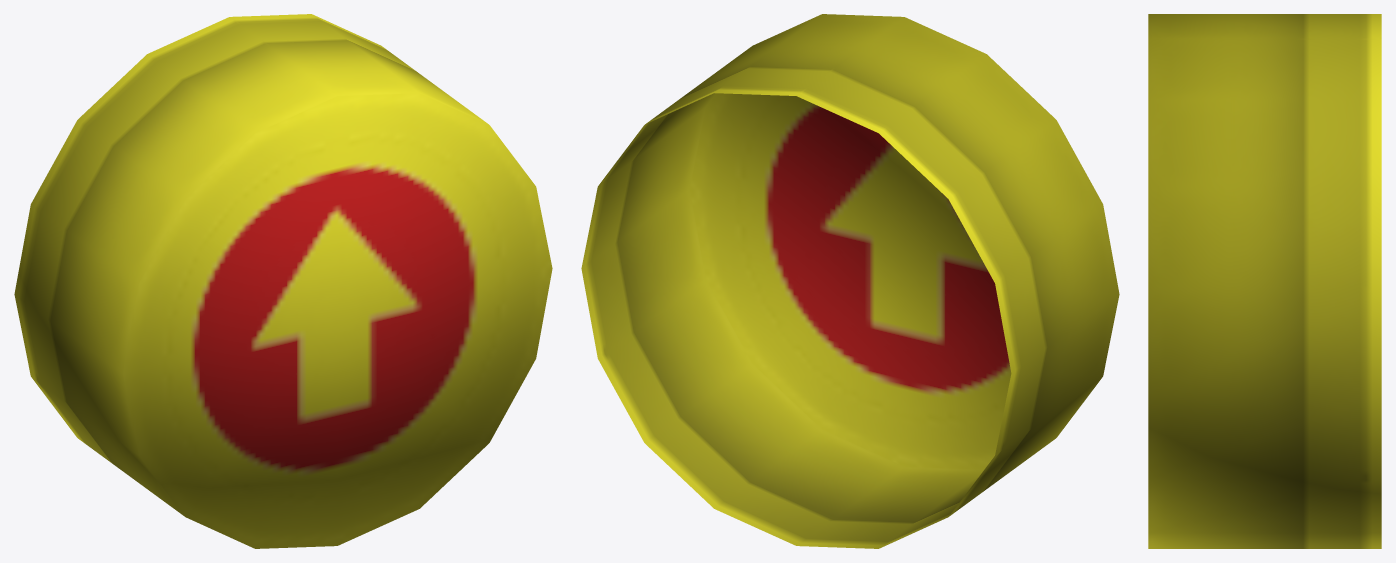
Rendered from Elevator_platform_button.fbx.
The picture shows the model from 3 angles, left to right: view 1: azimuth 30°, elevation 25°; view 2: azimuth 150°, elevation 25°; view 3: azimuth 270°, elevation 25°; orthographic projection. The views are drawn at different scales.
Parts seen in each view (by area): view 1: Elevator_platform_button; view 2: Elevator_platform_button; view 3: Elevator_platform_button.
Part boxes in pixels (x1=…): Elevator_platform_button: x1=14, y1=14, x2=552, y2=548; Elevator_platform_button: x1=581, y1=14, x2=1119, y2=548; Elevator_platform_button: x1=1148, y1=14, x2=1381, y2=548.
Bounding box in the file's own units: 6.89 × 6.89 × 3.
1 material, 1 textured.
